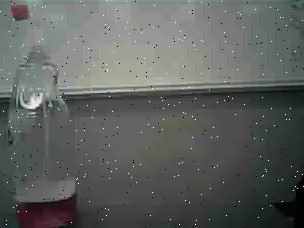hazard: (2, 0, 95, 228)
